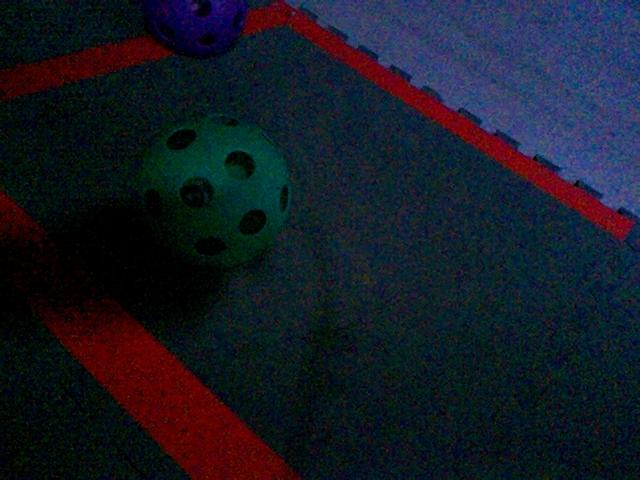Green: (133, 114, 293, 267)
Purple: (142, 0, 248, 57)
